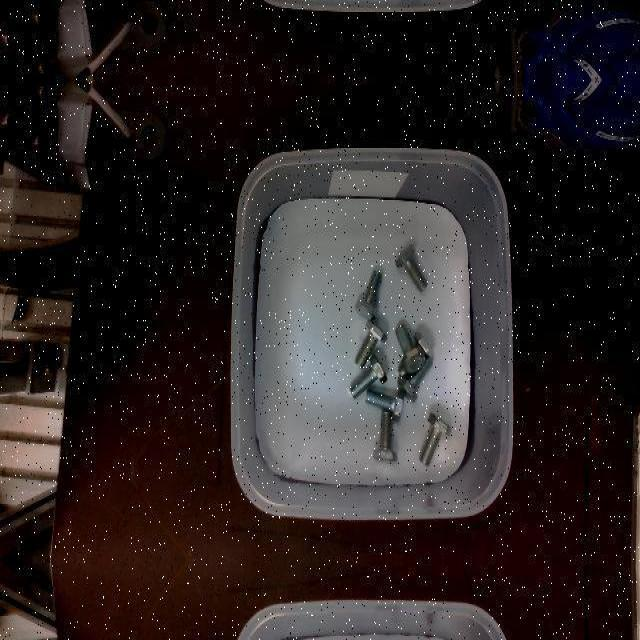screw: (349, 353, 388, 399), (419, 412, 452, 466), (395, 243, 428, 293), (354, 320, 388, 368), (395, 323, 425, 373), (354, 269, 382, 319), (364, 388, 404, 422), (373, 409, 397, 459)
